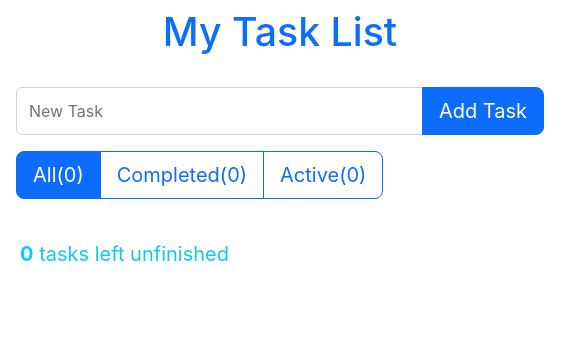
App › Adds a new task correctly
Type "Task 1" into the field with placeholder "New Task" at (219, 111), box [16, 87, 423, 135]
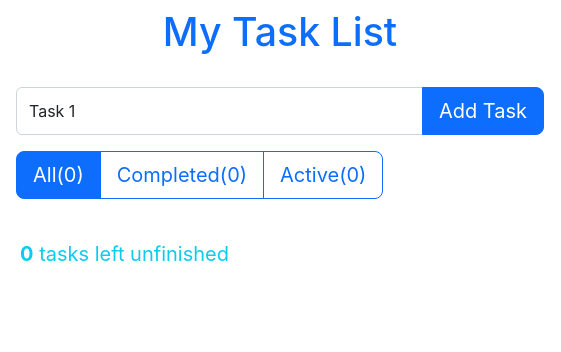
Click the button "Add Task" at (483, 111), box [422, 87, 544, 135]
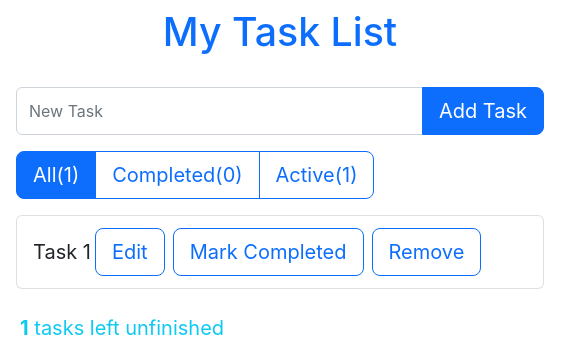
Now the text "Task 1" is shown, box [33, 237, 91, 267]
Now the button "All(1)" is shown, box [16, 151, 96, 199]
Now the button "Active(1)" is shown, box [259, 151, 374, 199]
